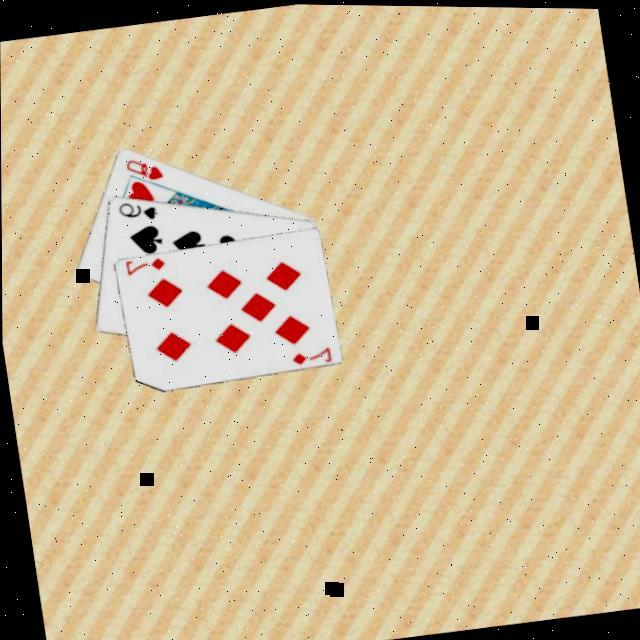7D: (123, 252, 170, 279), (288, 340, 335, 367)
9S: (116, 193, 163, 226)
QH: (123, 149, 169, 186)
